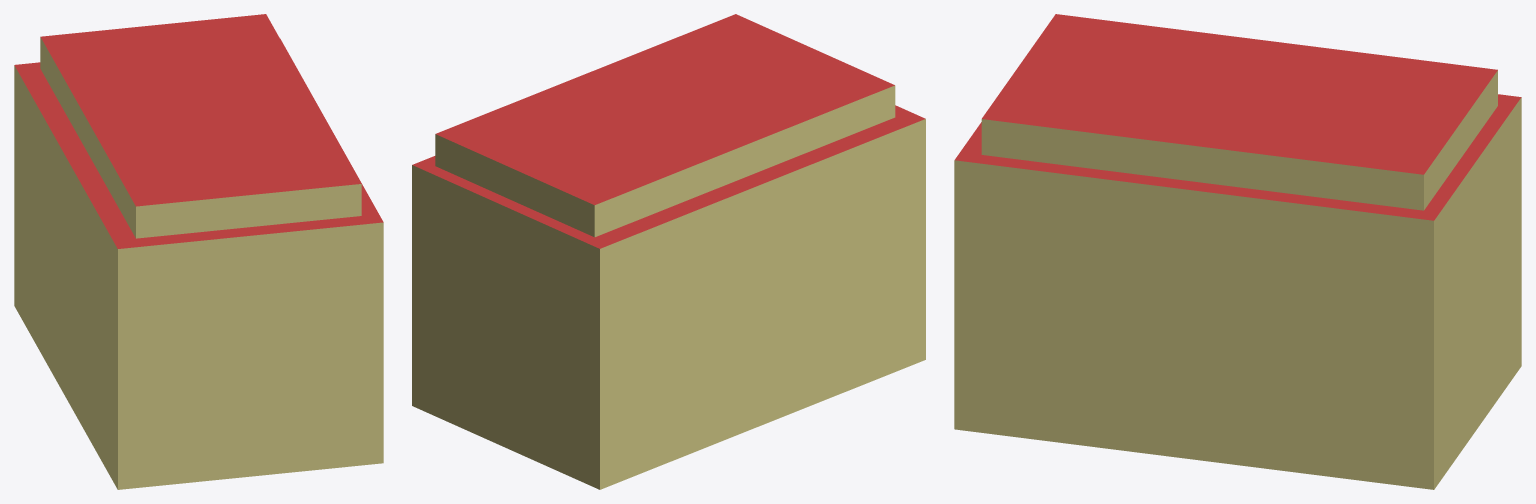
The picture shows the model from 3 angles, left to right: view 1: azimuth 30°, elevation 25°; view 2: azimuth 150°, elevation 25°; view 3: azimuth 270°, elevation 25°; orthographic projection. The views are drawn at different scales.
Visible parts, largest first — view 1: group_6, group_4, group_5, group_3; view 2: group_6, group_4, group_5, group_3; view 3: group_6, group_4, group_5, group_3.
Boxes of the visible parts, x1,y1,x2,y2 form: group_6: (14, 65, 383, 489); group_4: (41, 14, 361, 206); group_5: (40, 37, 361, 238); group_3: (14, 38, 383, 248); group_6: (412, 119, 925, 489); group_4: (436, 14, 894, 205); group_5: (435, 85, 895, 237); group_3: (412, 105, 925, 248); group_6: (954, 97, 1521, 489); group_4: (982, 14, 1497, 174); group_5: (981, 70, 1497, 210); group_3: (955, 94, 1521, 220).
Size of the model in its own units: 20.1 by 26.15 by 15.52.
